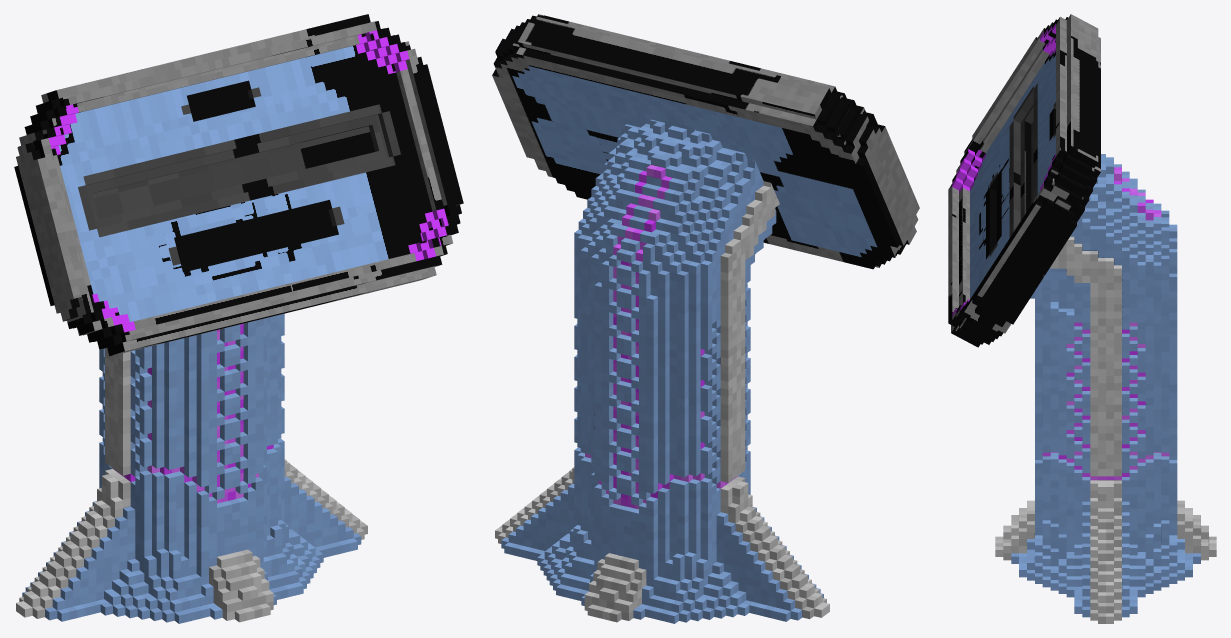
The model's file is Terminal.fbx.
3 renders of one model, left to right at view 1: azimuth 30°, elevation 25°; view 2: azimuth 150°, elevation 25°; view 3: azimuth 270°, elevation 25°, orthographic. The views are drawn at different scales.
Parts seen in each view (by area): view 1: Screen, Stand, RuneBar, PowerBar, StabilityBar; view 2: Stand, Screen; view 3: Stand, Screen, RuneBar, PowerBar.
Boxes of the visible parts, box(x1,y1,x2,y2) form: Screen: box(14, 14, 463, 356); Stand: box(16, 313, 367, 623); RuneBar: box(78, 104, 400, 237); PowerBar: box(168, 199, 344, 272); StabilityBar: box(181, 80, 261, 121); Stand: box(495, 119, 829, 623); Screen: box(492, 14, 919, 269); Stand: box(995, 154, 1216, 623); Screen: box(948, 14, 1100, 347); RuneBar: box(1009, 83, 1037, 237); PowerBar: box(986, 169, 1001, 259).
Size of the model in its own units: 500 by 656 by 340.
